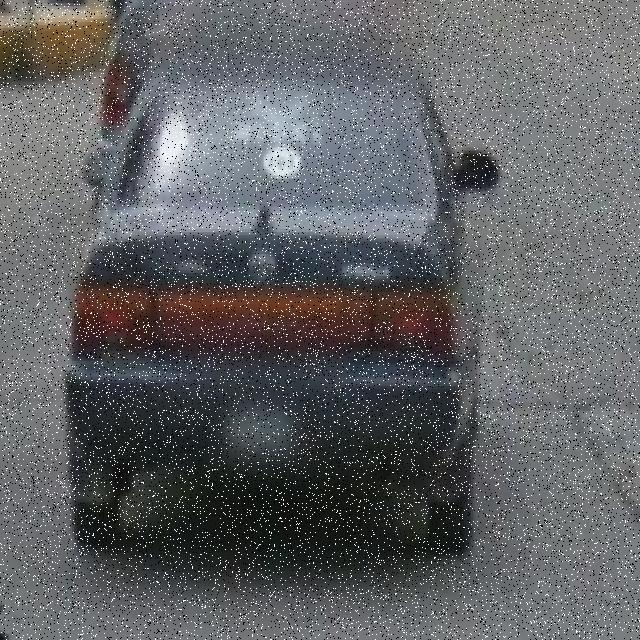cars: (67, 41, 491, 560)
